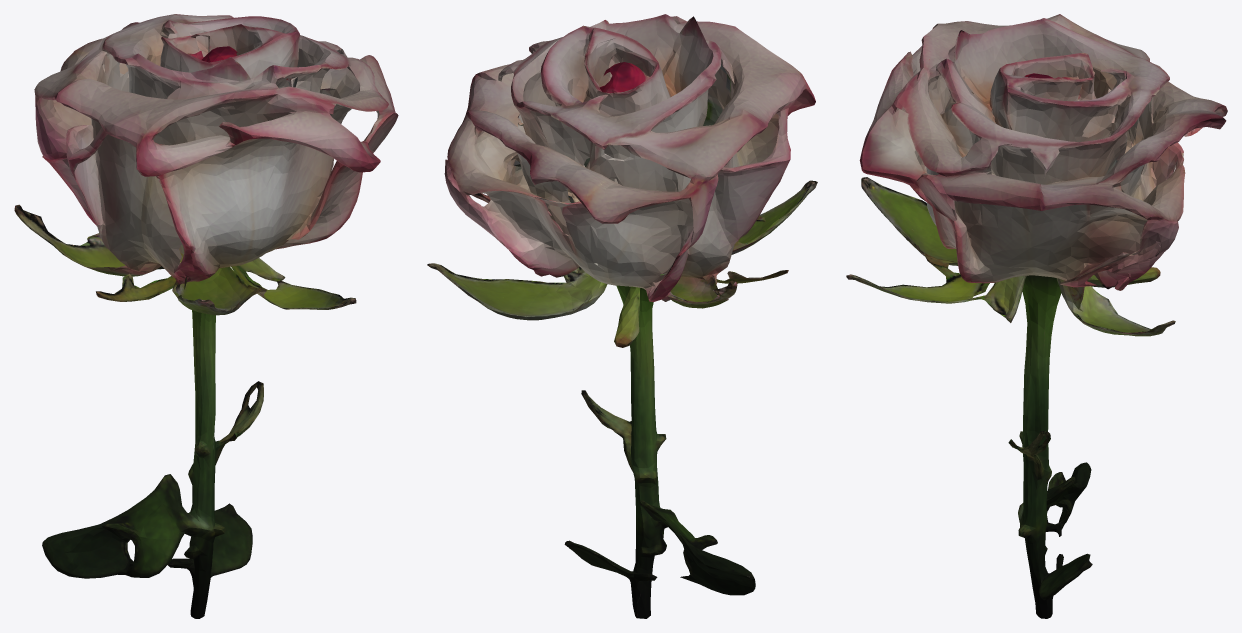
The picture shows the model from 3 angles, left to right: view 1: azimuth 30°, elevation 25°; view 2: azimuth 150°, elevation 25°; view 3: azimuth 270°, elevation 25°; orthographic projection. The views are drawn at different scales.
Parts seen in each view (by area): view 1: world; view 2: world; view 3: world.
Part boxes in pixels (<box>): world: <box>14,14,398,618</box>; world: <box>427,14,817,618</box>; world: <box>846,14,1227,618</box>.
Size of the model in its own units: 0.5517 by 0.978 by 0.5812.
Materials: 1 (1 with a texture image).
